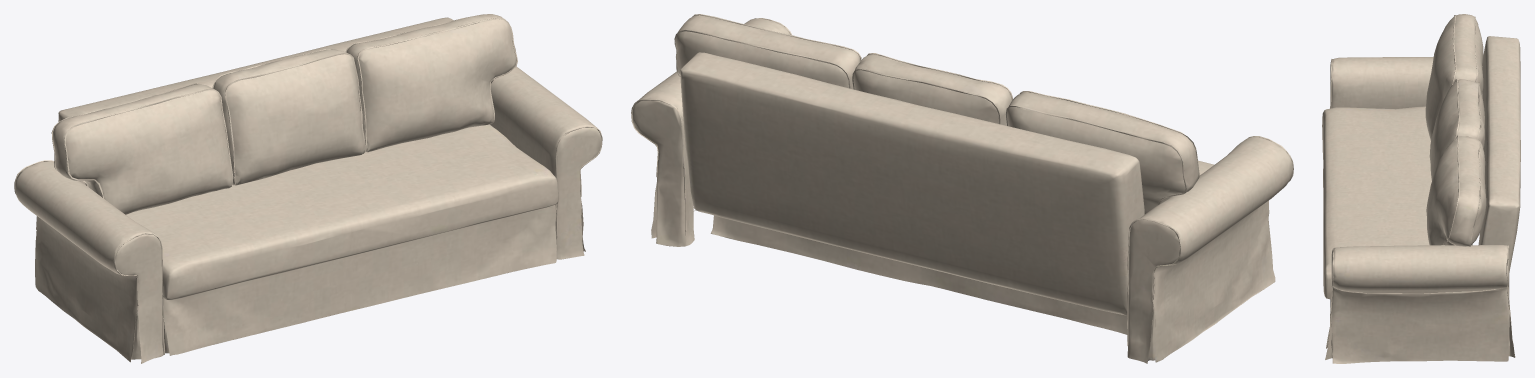
Rendered from vretstorp_sofa_3_osobowa_rozkadana_79491236.glb.
3 views of the same model, side by side, from view 1: azimuth 30°, elevation 25°; view 2: azimuth 150°, elevation 25°; view 3: azimuth 270°, elevation 25° (orthographic). The views are drawn at different scales.
Visible parts, largest first — view 1: vretstorp_sofa_3_osobowa_rozkadana_79491236; view 2: vretstorp_sofa_3_osobowa_rozkadana_79491236; view 3: vretstorp_sofa_3_osobowa_rozkadana_79491236.
Boxes of the visible parts, x1,y1,x2,y2 form: vretstorp_sofa_3_osobowa_rozkadana_79491236: [14, 14, 602, 363]; vretstorp_sofa_3_osobowa_rozkadana_79491236: [631, 14, 1293, 363]; vretstorp_sofa_3_osobowa_rozkadana_79491236: [1322, 14, 1520, 363].
Size of the model in its own units: 2.52 by 0.9343 by 1.
Materials: 1 (1 with a texture image).
